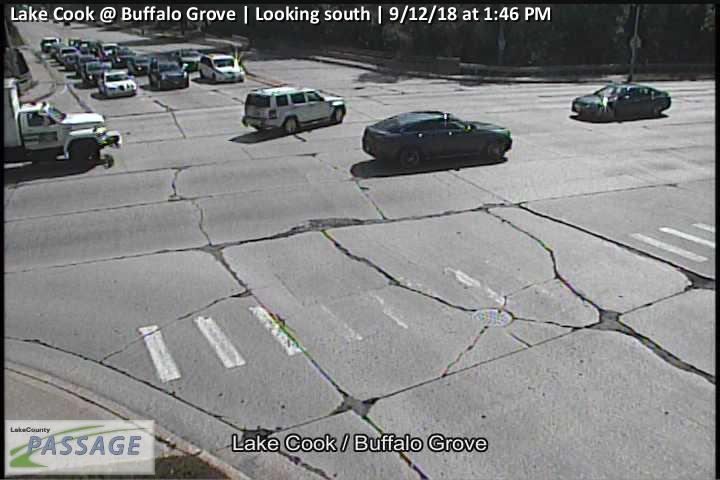SUV: (243, 86, 346, 133), (198, 52, 245, 83), (150, 56, 189, 90), (97, 41, 119, 63), (55, 46, 79, 62)
Sedan: (363, 110, 512, 168), (572, 84, 671, 123), (98, 69, 137, 96), (83, 61, 111, 88), (75, 54, 97, 75), (41, 37, 59, 52)
Truck: (1, 77, 123, 170)
